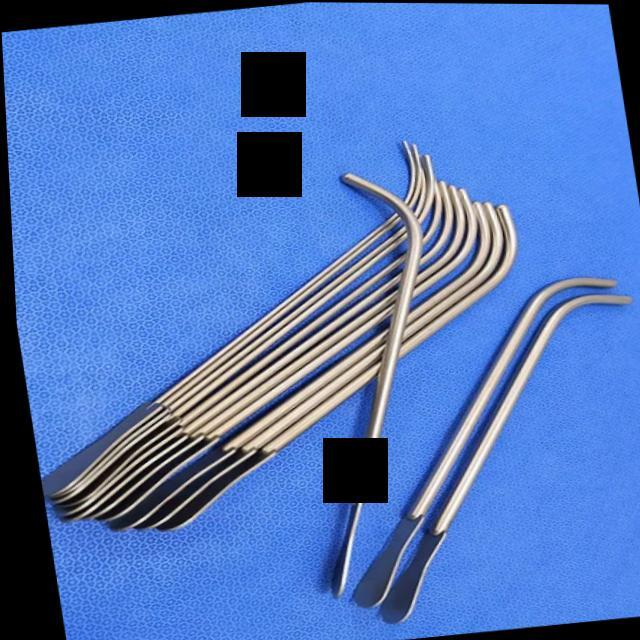Urethral Dilators: (8, 191, 548, 543), (9, 160, 502, 536), (6, 130, 476, 511), (7, 177, 519, 522), (92, 200, 562, 546), (297, 266, 640, 618), (222, 160, 486, 600), (323, 280, 640, 633)
